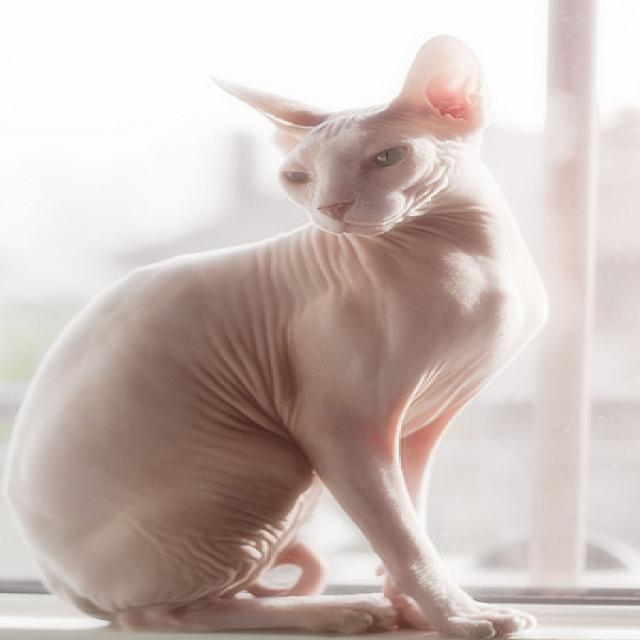Sphynx: (0, 31, 542, 640)
